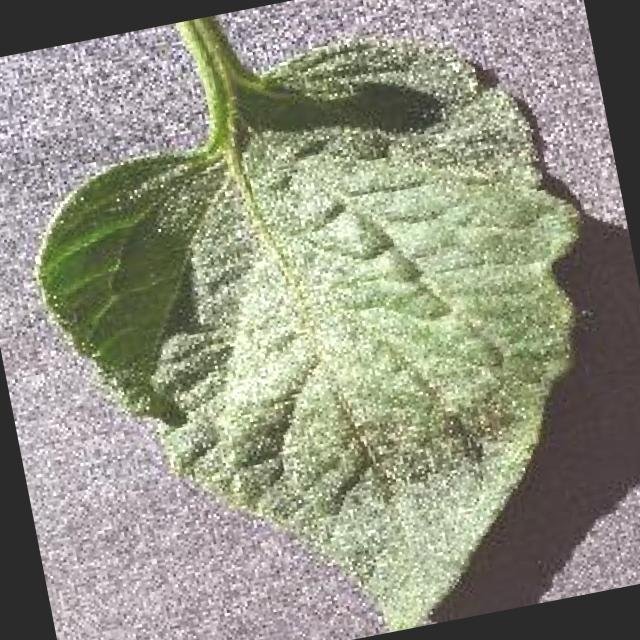healthy: (33, 15, 582, 631)
